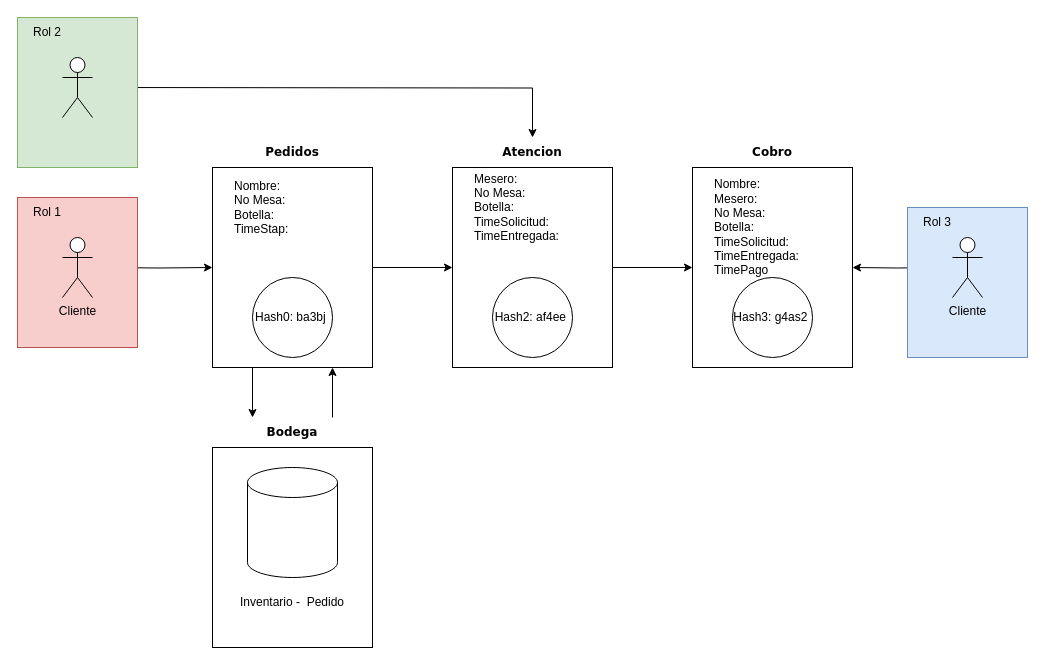
This 1045x665 diagram has some shape labels left out. Each missing label, with the box of its shape:
Inventario: (246, 466, 338, 578)
Mesero: (62, 56, 92, 118)
